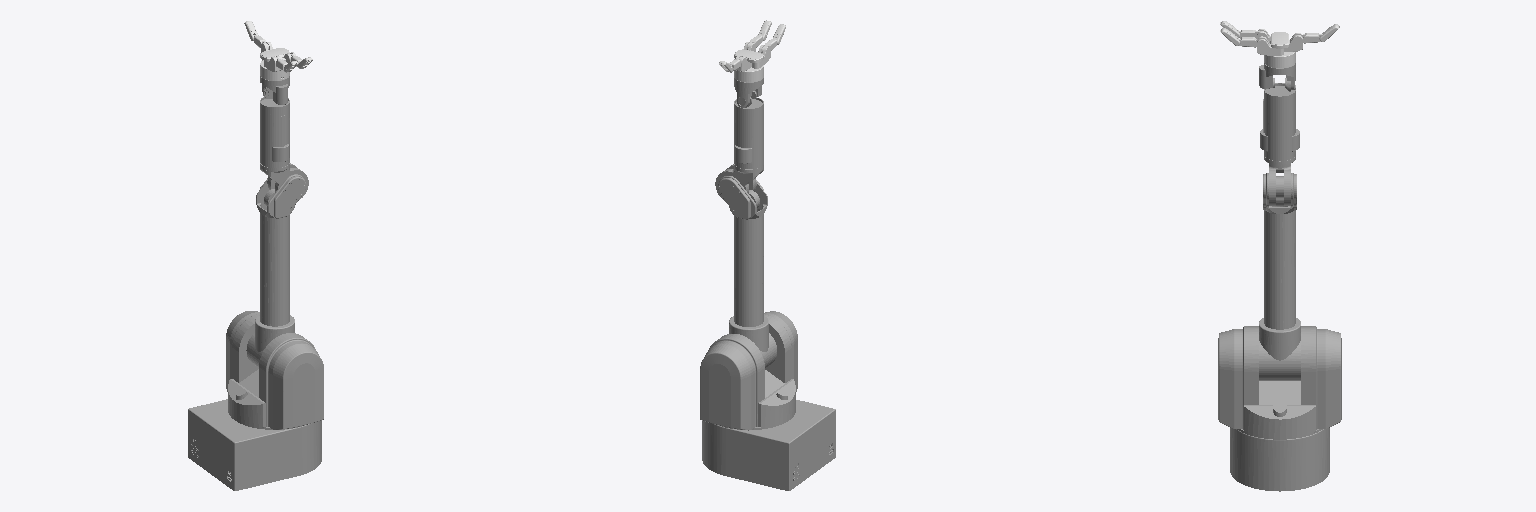
--- Facts derived from the render (not from the file) ---
Views: 3 orthographic renders of the robot side by side, from view 1: azimuth 30°, elevation 25°; view 2: azimuth 150°, elevation 25°; view 3: azimuth 270°, elevation 25°.
Model wam with 24 links and 23 joints (15 revolute, 8 fixed), rooted at world, posed all joints at 0.
Links seen in each view (by area): view 1: wam/shoulder_yaw_link, wam/base_link, wam/upper_arm_link, wam/forearm_link, wam/shoulder_pitch_link, wam/bhand/bhand_palm_link; view 2: wam/shoulder_yaw_link, wam/base_link, wam/upper_arm_link, wam/forearm_link, wam/shoulder_pitch_link, wam/bhand/bhand_palm_link; view 3: wam/shoulder_yaw_link, wam/base_link, wam/upper_arm_link, wam/forearm_link, wam/shoulder_pitch_link, wam/bhand/bhand_palm_link.
Boxes of the visible links, left/top/right/bottom form: wam/shoulder_yaw_link: left=226, top=311, right=323, bottom=429; wam/base_link: left=188, top=399, right=321, bottom=490; wam/upper_arm_link: left=256, top=174, right=305, bottom=326; wam/forearm_link: left=260, top=97, right=308, bottom=199; wam/shoulder_pitch_link: left=246, top=315, right=294, bottom=367; wam/bhand/bhand_palm_link: left=260, top=42, right=289, bottom=80; wam/shoulder_yaw_link: left=700, top=311, right=797, bottom=430; wam/base_link: left=702, top=400, right=835, bottom=490; wam/upper_arm_link: left=718, top=176, right=767, bottom=326; wam/forearm_link: left=715, top=97, right=763, bottom=201; wam/shoulder_pitch_link: left=729, top=316, right=776, bottom=367; wam/bhand/bhand_palm_link: left=734, top=49, right=763, bottom=82; wam/shoulder_yaw_link: left=1218, top=326, right=1341, bottom=439; wam/base_link: left=1230, top=428, right=1329, bottom=491; wam/upper_arm_link: left=1263, top=173, right=1296, bottom=329; wam/forearm_link: left=1260, top=83, right=1299, bottom=205; wam/shoulder_pitch_link: left=1259, top=318, right=1300, bottom=380; wam/bhand/bhand_palm_link: left=1264, top=32, right=1302, bottom=67.
Bounding box of the posed robot: 0.36 × 0.3476 × 1.37 m (x, y, z).
17 mesh visuals loaded from 13 distinct referenced files (12 OBJ); not drawn: 1 (reference not matched to a file when rendering).

robot.urdf — wam:
<?xml version="1.0" ?>
<!-- =================================================================================== -->
<!-- |    This document was autogenerated by xacro from wam7_bhand.urdf.xacro          | -->
<!-- |    EDITING THIS FILE BY HAND IS NOT RECOMMENDED                                 | -->
<!-- =================================================================================== -->
<robot name="wam" xmlns:controller="http://playerstage.sourceforge.net/gazebo/xmlschema/#controller" xmlns:xacro="http://ros.org/wiki/xacro">
  <!-- Includea all the WAM stuff -->
  <!-- Some macros used by the WAM urdf -->
  <!-- Directories -->
  <!-- Constants -->
  <!-- Gazebo macros -->
  <!-- Gazebo joint configuration -->
  <!-- Definition of a single WAM arm -->
  <!-- Directories -->
  <!-- Constants -->
  <!-- Gazebo macros -->
  <!-- Gazebo joint configuration -->
  <!-- Directories -->
  <!-- Constants -->
  <!-- Gazebo macros -->
  <!-- Gazebo joint configuration -->
  <!-- High-leveel hand macro -->
  <!-- Fingers -->
  <!-- Components -->
  <!-- Directories -->
  <!-- Constants -->
  <!-- Gazebo macros -->
  <!-- Gazebo joint configuration -->
  <!-- Upper arm macros -->
  <!-- Forearm macros -->
  <!-- Palm without force-torque sensor -->
  <!-- Hollow forearm macros -->
  <!--<xacro:macro name="wam_hollow_forearm" params="prefix">-->
  <!--<joint name="${prefix}/elbow_joint" type="revolute">-->
  <!--<parent link="${prefix}/upper_arm_link"/>-->
  <!--<child link="${prefix}/forearm_link"/>-->
  <!--<origin xyz="0.045 -0.55 0" rpy="${0.5 * PI} 0 0"/>-->
  <!--<axis xyz="0 1 0"/>-->
  <!--<limit effort="15" lower="-0.9" upper="${PI}" velocity="0.50"/>-->
  <!--[> <safety_controller k_position="100" k_velocity="3" soft_lower_limit="-100.0" soft_upper_limit="100.0" /> <]-->
  <!--<dynamics damping="0.1" friction="100.0"/>-->
  <!--</joint>-->
  <!--<link name="${prefix}/forearm_link" >-->
  <!--<inertial>-->
  <!--<origin xyz="0 0 0" />-->
  <!--<mass value="3.20016804" />-->
  <!--<origin xyz="-0.04001488 -.00022942 .13271662" rpy="0 0 0" />-->
  <!--<inertia  ixx="0.01491672" ixy="0.00001741"   ixz="-0.00150604"-->
  <!--iyy="0.01482988"   iyz="-0.00002109"-->
  <!--izz="0.00294463" />-->
  <!--</inertial>-->
  <!--<visual>-->
  <!--<material name="WAMGrey">-->
  <!--<color rgba="0.7 0.7 0.7 1.0"/>-->
  <!--</material>-->
  <!--<origin xyz="0 0 0" rpy="-${PI} 0 0" />-->
  <!--<geometry>-->
  <!--<mesh filename="${models_path}/meshes/wamForeArmLink4.DAE"/>-->
  <!--</geometry>-->
  <!--</visual>-->
  <!--<collision>-->
  <!--<origin xyz="0 0 0" rpy="-${PI} 0 0" />-->
  <!--<geometry>-->
  <!--<mesh filename="${models_path}/meshes/wamForeArmLink4.obj"/>-->
  <!--</geometry>-->
  <!--</collision>-->
  <!--</link>-->
  <!--</xacro:macro>-->
  <!--<xacro:macro name="wam_hollow_wrist" params="prefix">-->
  <!--<joint name="${prefix}/UpperWristJoint" type="fixed">-->
  <!--<parent link="${prefix}/ForeArmLink"/>-->
  <!--<child link="${prefix}/LowerWristPalmLink"/>-->
  <!--<origin xyz="-0.045 0 .35" rpy="-${0.5 * PI} 0 ${0.5 * PI}"/>-->
  <!--<axis xyz="0 -1 0"/>-->
  <!--<limit effort="5" lower="-4.8" upper="1.3" velocity="0.20"/>-->
  <!--[> <safety_controller k_position="100" k_velocity="3" soft_lower_limit="-100.0" soft_upper_limit="100.0" /> <]-->
  <!--<dynamics damping="0.1" friction="100.0"/>-->
  <!--</joint>-->
  <!--<link name="${prefix}/LowerWristPalmLink" >-->
  <!--<inertial>-->
  <!--<origin xyz="0.00008921 0.00511217 0.00435824" />-->
  <!--<mass value="1.12376019" />-->
  <!--<inertia  ixx="0.00005029" ixy="0.00000020"  ixz="0.00007582"-->
  <!--iyy="0.00007582"  iyz="-0.00000359"-->
  <!--izz="0.00006270" />-->
  <!--</inertial>-->
  <!--<visual>-->
  <!--<material name="WAMGrey">-->
  <!--<color rgba="0.7 0.7 0.7 1.0"/>-->
  <!--</material>-->
  <!--<origin xyz="0 0.02711 0" rpy="${PI} 0 0" />-->
  <!--<geometry>-->
  <!--<mesh filename="${models_path}/meshes/wamUpperWristYawLink.DAE"/>-->
  <!--</geometry>-->
  <!--</visual>-->
  <!--<collision>-->
  <!--<origin xyz="0 0.02711 0" rpy="${PI} 0 0" />-->
  <!--<geometry>-->
  <!--<mesh filename="${models_path}/meshes/wamUpperWristYawLink5.obj"/>-->
  <!--</geometry>-->
  <!--</collision>-->
  <!--</link>-->
  <!--</xacro:macro>-->
  <!-- Palm with ForceTorque macros -->
  <!--<xacro:macro name="LowerWristFT" params="prefix">-->
  <!--<joint name="${prefix}/LowerWristYawJoint" type="revolute">-->
  <!--<parent link="${prefix}/UpperWristPitchLink"/>-->
  <!--<child link="${prefix}/LowerWristYawLink"/>-->
  <!--<origin xyz="0 0 0.06713340" rpy="0 0 0"/>-->
  <!--<axis xyz="0 0 1"/>-->
  <!--<limit effort="5" lower="-2.95" upper="2.95" velocity="0.20"/>[> 2.95 is a limit taken in from 3 due to saftey and differences between arms. <]-->
  <!--[> <safety_controller k_position="100" k_velocity="3" soft_lower_limit="-100.0" soft_upper_limit="100.0" /> <]-->
  <!--<dynamics damping="0.1" friction="100.0"/>-->
  <!--</joint>-->
  <!--<link name="${prefix}/LowerWristYawLink" >-->
  <!--<inertial>-->
  <!--<origin xyz="-0.00000134 -0.00228167 -0.00000141" rpy="0 0 0" />-->
  <!--<mass value="0.17286134" />-->
  <!--<inertia  ixx="0.00010859" ixy="0.00000000"  ixz="-0.00000000"-->
  <!--iyy="0.00020683"  iyz="-0.0000000"-->
  <!--izz="0.00010851" />-->
  <!--</inertial>-->
  <!--<visual>-->
  <!--<material name="WAMGrey">-->
  <!--<color rgba="0.7 0.7 0.7 1.0"/>-->
  <!--</material>-->
  <!--<origin xyz="0 0 0" rpy="0 0 0" />-->
  <!--<geometry>-->
  <!--<mesh filename="${models_path}/meshes/forceTorqueSensor.DAE"/>-->
  <!--</geometry>-->
  <!--</visual>-->
  <!--<collision>-->
  <!--<origin xyz="0 0 0" rpy="0 0 0" />-->
  <!--<geometry>-->
  <!--<mesh filename="${models_path}/meshes/forceTorqueSensor.obj"/>-->
  <!--</geometry>-->
  <!--</collision>-->
  <!--</link>-->
  <!--</xacro:macro>-->
  <!-- upper arm only -->
  <!-- forearm with actuation "wrist" -->
  <!-- Definition of all the different parts of a WAM arm -->
  <!-- Directories -->
  <!-- Constants -->
  <!-- Gazebo macros -->
  <!-- Gazebo joint configuration -->
  <!-- High-leveel hand macro -->
  <!-- Fingers -->
  <!-- Components -->
  <!-- Directories -->
  <!-- Constants -->
  <!-- Gazebo macros -->
  <!-- Gazebo joint configuration -->
  <!-- Upper arm macros -->
  <!-- Forearm macros -->
  <!-- Palm without force-torque sensor -->
  <!-- Hollow forearm macros -->
  <!--<xacro:macro name="wam_hollow_forearm" params="prefix">-->
  <!--<joint name="${prefix}/elbow_joint" type="revolute">-->
  <!--<parent link="${prefix}/upper_arm_link"/>-->
  <!--<child link="${prefix}/forearm_link"/>-->
  <!--<origin xyz="0.045 -0.55 0" rpy="${0.5 * PI} 0 0"/>-->
  <!--<axis xyz="0 1 0"/>-->
  <!--<limit effort="15" lower="-0.9" upper="${PI}" velocity="0.50"/>-->
  <!--[> <safety_controller k_position="100" k_velocity="3" soft_lower_limit="-100.0" soft_upper_limit="100.0" /> <]-->
  <!--<dynamics damping="0.1" friction="100.0"/>-->
  <!--</joint>-->
  <!--<link name="${prefix}/forearm_link" >-->
  <!--<inertial>-->
  <!--<origin xyz="0 0 0" />-->
  <!--<mass value="3.20016804" />-->
  <!--<origin xyz="-0.04001488 -.00022942 .13271662" rpy="0 0 0" />-->
  <!--<inertia  ixx="0.01491672" ixy="0.00001741"   ixz="-0.00150604"-->
  <!--iyy="0.01482988"   iyz="-0.00002109"-->
  <!--izz="0.00294463" />-->
  <!--</inertial>-->
  <!--<visual>-->
  <!--<material name="WAMGrey">-->
  <!--<color rgba="0.7 0.7 0.7 1.0"/>-->
  <!--</material>-->
  <!--<origin xyz="0 0 0" rpy="-${PI} 0 0" />-->
  <!--<geometry>-->
  <!--<mesh filename="${models_path}/meshes/wamForeArmLink4.DAE"/>-->
  <!--</geometry>-->
  <!--</visual>-->
  <!--<collision>-->
  <!--<origin xyz="0 0 0" rpy="-${PI} 0 0" />-->
  <!--<geometry>-->
  <!--<mesh filename="${models_path}/meshes/wamForeArmLink4.obj"/>-->
  <!--</geometry>-->
  <!--</collision>-->
  <!--</link>-->
  <!--</xacro:macro>-->
  <!--<xacro:macro name="wam_hollow_wrist" params="prefix">-->
  <!--<joint name="${prefix}/UpperWristJoint" type="fixed">-->
  <!--<parent link="${prefix}/ForeArmLink"/>-->
  <!--<child link="${prefix}/LowerWristPalmLink"/>-->
  <!--<origin xyz="-0.045 0 .35" rpy="-${0.5 * PI} 0 ${0.5 * PI}"/>-->
  <!--<axis xyz="0 -1 0"/>-->
  <!--<limit effort="5" lower="-4.8" upper="1.3" velocity="0.20"/>-->
  <!--[> <safety_controller k_position="100" k_velocity="3" soft_lower_limit="-100.0" soft_upper_limit="100.0" /> <]-->
  <!--<dynamics damping="0.1" friction="100.0"/>-->
  <!--</joint>-->
  <!--<link name="${prefix}/LowerWristPalmLink" >-->
  <!--<inertial>-->
  <!--<origin xyz="0.00008921 0.00511217 0.00435824" />-->
  <!--<mass value="1.12376019" />-->
  <!--<inertia  ixx="0.00005029" ixy="0.00000020"  ixz="0.00007582"-->
  <!--iyy="0.00007582"  iyz="-0.00000359"-->
  <!--izz="0.00006270" />-->
  <!--</inertial>-->
  <!--<visual>-->
  <!--<material name="WAMGrey">-->
  <!--<color rgba="0.7 0.7 0.7 1.0"/>-->
  <!--</material>-->
  <!--<origin xyz="0 0.02711 0" rpy="${PI} 0 0" />-->
  <!--<geometry>-->
  <!--<mesh filename="${models_path}/meshes/wamUpperWristYawLink.DAE"/>-->
  <!--</geometry>-->
  <!--</visual>-->
  <!--<collision>-->
  <!--<origin xyz="0 0.02711 0" rpy="${PI} 0 0" />-->
  <!--<geometry>-->
  <!--<mesh filename="${models_path}/meshes/wamUpperWristYawLink5.obj"/>-->
  <!--</geometry>-->
  <!--</collision>-->
  <!--</link>-->
  <!--</xacro:macro>-->
  <!-- Palm with ForceTorque macros -->
  <!--<xacro:macro name="LowerWristFT" params="prefix">-->
  <!--<joint name="${prefix}/LowerWristYawJoint" type="revolute">-->
  <!--<parent link="${prefix}/UpperWristPitchLink"/>-->
  <!--<child link="${prefix}/LowerWristYawLink"/>-->
  <!--<origin xyz="0 0 0.06713340" rpy="0 0 0"/>-->
  <!--<axis xyz="0 0 1"/>-->
  <!--<limit effort="5" lower="-2.95" upper="2.95" velocity="0.20"/>[> 2.95 is a limit taken in from 3 due to saftey and differences between arms. <]-->
  <!--[> <safety_controller k_position="100" k_velocity="3" soft_lower_limit="-100.0" soft_upper_limit="100.0" /> <]-->
  <!--<dynamics damping="0.1" friction="100.0"/>-->
  <!--</joint>-->
  <!--<link name="${prefix}/LowerWristYawLink" >-->
  <!--<inertial>-->
  <!--<origin xyz="-0.00000134 -0.00228167 -0.00000141" rpy="0 0 0" />-->
  <!--<mass value="0.17286134" />-->
  <!--<inertia  ixx="0.00010859" ixy="0.00000000"  ixz="-0.00000000"-->
  <!--iyy="0.00020683"  iyz="-0.0000000"-->
  <!--izz="0.00010851" />-->
  <!--</inertial>-->
  <!--<visual>-->
  <!--<material name="WAMGrey">-->
  <!--<color rgba="0.7 0.7 0.7 1.0"/>-->
  <!--</material>-->
  <!--<origin xyz="0 0 0" rpy="0 0 0" />-->
  <!--<geometry>-->
  <!--<mesh filename="${models_path}/meshes/forceTorqueSensor.DAE"/>-->
  <!--</geometry>-->
  <!--</visual>-->
  <!--<collision>-->
  <!--<origin xyz="0 0 0" rpy="0 0 0" />-->
  <!--<geometry>-->
  <!--<mesh filename="${models_path}/meshes/forceTorqueSensor.obj"/>-->
  <!--</geometry>-->
  <!--</collision>-->
  <!--</link>-->
  <!--</xacro:macro>-->
  <!-- Definitions for the barrett hand -->
  <!-- Directories -->
  <!-- Constants -->
  <!-- Gazebo macros -->
  <!-- Gazebo joint configuration -->
  <!-- High-leveel hand macro -->
  <!-- Fingers -->
  <!-- Components -->
  <!-- Definitions for the barrett ball -->
  <!-- Directories -->
  <!-- Constants -->
  <!-- Gazebo macros -->
  <!-- Gazebo joint configuration -->
  <!-- High-leveel hand macro -->
  <!-- Materials -->
  <material name="WAMGrey">
    <color rgba="0.7 0.7 0.7 1.0"/>
  </material>
  <!-- Root link is in the world frame-->
  <link name="world"/>
  <!-- 7-DOF Wam -->
  <joint name="wam/wam_fixed_joint" type="fixed">
    <parent link="world"/>
    <child link="wam/base_link"/>
    <origin rpy="0 0 0" xyz="0.0 0.0 1.0"/>
  </joint>
  <link name="wam/base_link">
    <inertial>
      <origin xyz="0 0 0"/>
      <mass value="500"/>
      <inertia ixx="0.1" ixy="0" ixz="0" iyy="0.1" iyz="0" izz="0.1"/>
    </inertial>
    <visual>
      <material name="WAMGrey">
        <color rgba="0.7 0.7 0.7 0.0"/>
      </material>
      <geometry>
        <mesh filename="models/sw_meshes/base_link_fine.obj"/>
      </geometry>
    </visual>
    <collision group="base">
      <geometry>
        <mesh filename="models/sw_meshes/base_link_convex.dae"/>
      </geometry>
    </collision>
  </link>
  <joint name="wam/base_yaw_joint" type="revolute">
    <parent link="wam/base_link"/>
    <child link="wam/shoulder_yaw_link"/>
    <origin rpy="0 0 0" xyz="0 0 0.346"/>
    <axis xyz="0 0 1"/>
    <limit effort="60" lower="-2.6" upper="2.6" velocity="2.0"/>
    <dynamics damping="1.98" friction="0"/>
  </joint>
  <gazebo reference="wam/base_yaw_joint">
    <provideFeedback>true</provideFeedback>
    <implicitSpringDamper>true</implicitSpringDamper>
    <!--<kp>0.0</kp>[> CFM <]-->
    <!--<kd>0.0</kd>[> ERP <]-->
    <!--<cfmDamping>true</cfmDamping>-->
    <!--<dynamics damping="5.5" friction="1"/>-->
  </gazebo>
  <link name="wam/shoulder_yaw_link">
    <inertial>
      <origin xyz="-.00443422 -.00066489 -0.1289039 "/>
      <mass value="5.0"/>
      <inertia ixx=".13488033" ixy="-0.00012485" ixz="0.00213041" iyy=".09046330" iyz="-.00068555" izz=".11328369"/>
    </inertial>
    <visual>
      <material name="WAMGrey">
        <color rgba="0.7 0.7 0.7 1.0"/>
      </material>
      <geometry>
        <mesh filename="models/sw_meshes/shoulder_link_fine.obj"/>
      </geometry>
    </visual>
    <collision>
      <geometry>
        <mesh filename="models/sw_meshes/shoulder_link_convex_decomposition.dae"/>
      </geometry>
    </collision>
  </link>
  <joint name="wam/shoulder_pitch_joint" type="revolute">
    <parent link="wam/shoulder_yaw_link"/>
    <child link="wam/shoulder_pitch_link"/>
    <origin rpy="-1.57079632679 0 0" xyz="0 0 0"/>
    <axis xyz="0 0 1"/>
    <limit effort="60" lower="-1.985" upper="1.985" velocity="2.0"/>
    <dynamics damping="0.55" friction="0"/>
  </joint>
  <gazebo reference="wam/shoulder_pitch_joint">
    <provideFeedback>true</provideFeedback>
    <implicitSpringDamper>true</implicitSpringDamper>
    <!--<kp>0.0</kp>[> CFM <]-->
    <!--<kd>0.0</kd>[> ERP <]-->
    <!--<cfmDamping>true</cfmDamping>-->
    <!--<dynamics damping="5.5" friction="1"/>-->
  </gazebo>
  <link name="wam/shoulder_pitch_link">
    <visual>
      <material name="WAMGrey">
        <color rgba="0.7 0.7 0.7 1.0"/>
      </material>
      <geometry>
        <mesh filename="models/sw_meshes/shoulder_pitch_link_fine.obj"/>
      </geometry>
    </visual>
    <inertial>
      <origin xyz="-.00236981 -.01542114 .03105614 "/>
      <mass value="3.87493756"/>
      <inertia ixx="0.02140958" ixy="-0.00002461" ixz="0.00027172" iyy="0.015589060" iyz="0.0018192" izz="0.01377875"/>
    </inertial>
    <collision>
      <geometry>
        <mesh filename="models/sw_meshes/shoulder_pitch_link_convex.dae"/>
      </geometry>
    </collision>
  </link>
  <joint name="wam/shoulder_yaw_joint" type="revolute">
    <parent link="wam/shoulder_pitch_link"/>
    <child link="wam/upper_arm_link"/>
    <origin rpy="1.57079632679 0 0" xyz="0 0 0"/>
    <axis xyz="0 0 1"/>
    <limit effort="45" lower="-2.8" upper="2.8" velocity="2.0"/>
    <dynamics damping="1.65" friction="0"/>
  </joint>
  <gazebo reference="wam/shoulder_yaw_joint">
    <provideFeedback>true</provideFeedback>
    <implicitSpringDamper>true</implicitSpringDamper>
    <!--<kp>0.0</kp>[> CFM <]-->
    <!--<kd>0.0</kd>[> ERP <]-->
    <!--<cfmDamping>true</cfmDamping>-->
    <!--<dynamics damping="5.5" friction="1"/>-->
  </gazebo>
  <link name="wam/upper_arm_link">
    <inertial>
      <origin xyz="0.00683258580000000 0.000033090000000 0.392492300000000"/>
      <mass value="2.20228141"/>
      <inertia ixx=".05911077" ixy="-0.00000738" ixz="-0.00249612" iyy="0.05927043" iyz="0.00001767" izz="0.0032455"/>
    </inertial>
    <visual>
      <material name="WAMGrey">
        <color rgba="0.7 0.7 0.7 1.0"/>
      </material>
      <geometry>
        <mesh filename="models/sw_meshes/upper_arm_link_fine.obj"/>
      </geometry>
    </visual>
    <collision>
      <geometry>
        <mesh filename="models/sw_meshes/upper_arm_link_convex_decomposition.dae"/>
      </geometry>
    </collision>
  </link>
  <joint name="wam/elbow_pitch_joint" type="revolute">
    <parent link="wam/upper_arm_link"/>
    <child link="wam/forearm_link"/>
    <origin rpy="-1.57079632679 0 0" xyz="0.045 0 0.55"/>
    <axis xyz="0 0 1"/>
    <limit effort="30" lower="-0.9" upper="3.14159265359" velocity="2.00"/>
    <dynamics damping="0.88" friction="0"/>
  </joint>
  <gazebo reference="wam/elbow_pitch_joint">
    <provideFeedback>true</provideFeedback>
    <implicitSpringDamper>true</implicitSpringDamper>
    <!--<kp>0.0</kp>[> CFM <]-->
    <!--<kd>0.0</kd>[> ERP <]-->
    <!--<cfmDamping>true</cfmDamping>-->
    <!--<dynamics damping="5.5" friction="1"/>-->
  </gazebo>
  <link name="wam/forearm_link">
    <inertial>
      <mass value="0.50016804"/>
      <origin rpy="0 0 0" xyz="-0.04001488 -.14271662 -.00022942 "/>
      <inertia ixx="0.01491672" ixy="0.001506040000000" ixz="0.000017410000000" iyy="0.002944630000000" iyz="0.000021090000000" izz="0.014829880000000"/>
    </inertial>
    <visual>
      <material name="WAMGrey">
        <color rgba="0.7 0.7 0.7 1.0"/>
      </material>
      <geometry>
        <mesh filename="models/sw_meshes/elbow_link_fine.obj"/>
      </geometry>
    </visual>
    <collision>
      <geometry>
        <mesh filename="models/sw_meshes/elbow_link_convex.dae"/>
      </geometry>
    </collision>
    <visual>
      <material name="WAMGrey">
        <color rgba="0.7 0.7 0.7 1.0"/>
      </material>
      <origin rpy="1.57079632679 0 0" xyz="-0.045 -0.0730 0"/>
      <geometry>
        <mesh filename="models/sw_meshes/forearm_link_fine.obj"/>
      </geometry>
    </visual>
    <collision>
      <origin rpy="1.57079632679 0 0" xyz="-0.045 -0.0730 0"/>
      <geometry>
        <mesh filename="models/sw_meshes/forearm_link_convex_decomposition.dae"/>
      </geometry>
    </collision>
  </link>
  <joint name="wam/wrist_yaw_joint" type="revolute">
    <parent link="wam/forearm_link"/>
    <child link="wam/wrist_yaw_link"/>
    <origin rpy="1.57079632679 0 0" xyz="-0.045 -0.3 0"/>
    <axis xyz="0 0 1"/>
    <limit effort="10" lower="-4.55" upper="1.25" velocity="2.0"/>
    <dynamics damping="0.55" friction="0"/>
  </joint>
  <gazebo reference="wam/wrist_yaw_joint">
    <provideFeedback>true</provideFeedback>
    <implicitSpringDamper>true</implicitSpringDamper>
    <!--<kp>0.0</kp>[> CFM <]-->
    <!--<kd>0.0</kd>[> ERP <]-->
    <!--<cfmDamping>true</cfmDamping>-->
    <!--<dynamics damping="5.5" friction="1"/>-->
  </gazebo>
  <link name="wam/wrist_yaw_link">
    <inertial>
      <origin xyz="0.00008921 0.00435824 -0.00511217 "/>
      <mass value="1.05376019"/>
      <inertia ixx="0.00005029" ixy="0.00000020" ixz="0.00007582" iyy="0.00007582" iyz="-0.00000359" izz="0.00006270"/>
    </inertial>
    <visual>
      <material name="WAMGrey">
        <color rgba="0.7 0.7 0.7 1.0"/>
      </material>
      <origin rpy="0 0 0" xyz="0 0 0"/>
      <geometry>
        <mesh filename="models/sw_meshes/wrist_yaw_link_fine.obj"/>
      </geometry>
    </visual>
    <collision>
      <origin rpy="0 0 0" xyz="0 0 0"/>
      <geometry>
        <mesh filename="models/sw_meshes/wrist_yaw_link_convex_decomposition.dae"/>
      </geometry>
    </collision>
  </link>
  <joint name="wam/wrist_pitch_joint" type="revolute">
    <parent link="wam/wrist_yaw_link"/>
    <child link="wam/wrist_pitch_link"/>
    <origin rpy="-1.57079632679 0 0" xyz="0 0 0"/>
    <axis xyz="0 0 1"/>
    <limit effort="10" lower="-1.5707" upper="1.5707" velocity="2.00"/>
    <dynamics damping="0.5" friction="0"/>
  </joint>
  <gazebo reference="wam/wrist_pitch_joint">
    <provideFeedback>true</provideFeedback>
    <implicitSpringDamper>true</implicitSpringDamper>
    <!--<kp>0.0</kp>[> CFM <]-->
    <!--<kd>0.0</kd>[> ERP <]-->
    <!--<cfmDamping>true</cfmDamping>-->
    <!--<dynamics damping="5.5" friction="1"/>-->
  </gazebo>
  <link name="wam/wrist_pitch_link">
    <inertial>
      <origin rpy="0 0 0" xyz="-0.00012262 -0.02468336 -0.01703194 "/>
      <mass value="0.51797364"/>
      <inertia ixx="0.00055516" ixy="0.00000061" ixz="-0.00000074" iyy="0.00024367" iyz="-0.00004590" izz="0.00045358"/>
    </inertial>
    <visual>
      <material name="WAMGrey">
        <color rgba="0.7 0.7 0.7 1.0"/>
      </material>
      <geometry>
        <mesh filename="models/sw_meshes/wrist_pitch_link_fine.obj"/>
      </geometry>
    </visual>
    <collision>
      <geometry>
        <mesh filename="models/sw_meshes/wrist_pitch_link_convex_decomposition.dae"/>
      </geometry>
    </collision>
  </link>
  <joint name="wam/palm_yaw_joint" type="revolute">
    <parent link="wam/wrist_pitch_link"/>
    <child link="wam/wrist_palm_link"/>
    <origin rpy="1.57079632679 0 0" xyz="0 0 0"/>
    <axis xyz="0 0 1"/>
    <limit effort="10" lower="-3.0" upper="3.0" velocity="2.00"/>
    <!-- 2.95 is a limit taken in from 3 due to saftey and differences between arms. -->
    <dynamics damping="0.11" friction="0"/>
  </joint>
  <gazebo reference="wam/palm_yaw_joint">
    <provideFeedback>true</provideFeedback>
    <implicitSpringDamper>true</implicitSpringDamper>
    <!--<kp>0.0</kp>[> CFM <]-->
    <!--<kd>0.0</kd>[> ERP <]-->
    <!--<cfmDamping>true</cfmDamping>-->
    <!--<dynamics damping="5.5" friction="1"/>-->
  </gazebo>
  <link name="wam/wrist_palm_link">
    <inertial>
      <origin rpy="0 0 0" xyz="0.0 0.0 0.055"/>
      <mass value="0.08286134"/>
      <inertia ixx="0.00010859" ixy="0.00000000" ixz="-0.00000000" iyy="0.00020683" iyz="-0.0000000" izz="0.00010851"/>
    </inertial>
    <visual>
      <material name="WAMGrey">
        <color rgba="0.7 0.7 0.7 1.0"/>
      </material>
      <origin rpy="0 0 0" xyz="0 0 0"/>
      <geometry>
        <mesh filename="models/sw_meshes/wrist_palm_link_fine.obj"/>
      </geometry>
    </visual>
    <collision>
      <origin rpy="0 0 0" xyz="0 0 0"/>
      <geometry>
        <mesh filename="models/sw_meshes/wrist_palm_link_convex.dae"/>
      </geometry>
    </collision>
  </link>
  <joint name="wam/wrist_palm_stump_joint" type="fixed">
    <parent link="wam/wrist_palm_link"/>
    <child link="wam/wrist_palm_stump_link"/>
    <origin rpy="0 0 0" xyz="0 0 0.06"/>
  </joint>
  <link name="wam/wrist_palm_stump_link">
    <inertial>
      <mass value="0.000001"/>
      <inertia ixx="0.0000001" ixy="0.0" ixz="0.0" iyy="0.0000001" iyz="0.0" izz="0.0000001"/>
    </inertial>
  </link>
  <!-- BHand -->
  <joint name="wam/bhand/bhand_base_joint" type="fixed">
    <parent link="wam/wrist_palm_link"/>
    <child link="wam/bhand/bhand_palm_link"/>
    <origin rpy="0 0 0" xyz="0 0 0.06"/>
  </joint>
  <gazebo reference="wam/bhand/bhand_palm_link">
    <mu1>0.8</mu1>
    <mu2>0.8</mu2>
  </gazebo>
  <link name="wam/bhand/bhand_palm_link">
    <inertial>
      <origin xyz="-5.1098e-005 0.0050433 0.036671"/>
      <mass value="0.50573"/>
      <inertia ixx="3.8374e-005" ixy="-5.604e-008" ixz="-4.2034e-005" iyy="0.00022405" iyz="1.3283e-007" izz="0.00020045"/>
    </inertial>
    <visual>
      <material name="WAMGrey">
        <color rgba="0.9 0.9 0.9 0.0"/>
      </material>
      <geometry>
        <mesh filename="models/sw_meshes/bhand/bhand_palm_fine.obj"/>
      </geometry>
    </visual>
    <collision>
      <geometry>
        <mesh filename="models/sw_meshes/bhand/bhand_palm_link_convex_decomposition.dae"/>
      </geometry>
    </collision>
  </link>
  <joint name="wam/bhand/bhand_palm_surface_joint" type="fixed">
    <parent link="wam/bhand/bhand_palm_link"/>
    <child link="wam/bhand/bhand_palm_surface_link"/>
    <origin rpy="0 0 0" xyz="0 0 0.08"/>
    <limit effort="5" lower="0" upper="3.14159265359" velocity="5.0"/>
    <dynamics damping="0.11" friction="0"/>
  </joint>
  <link name="wam/bhand/bhand_palm_surface_link">
    <inertial>
      <mass value="0.000001"/>
      <inertia ixx="0.000001" ixy="0.0" ixz="0.0" iyy="0.000001" iyz="0.0" izz="0.000001"/>
    </inertial>
  </link>
  <joint name="wam/bhand/bhand_grasp_joint" type="fixed">
    <parent link="wam/bhand/bhand_palm_link"/>
    <child link="wam/bhand/bhand_grasp_link"/>
    <origin rpy="0 0 0" xyz="0 0 0.12"/>
    <limit effort="5" lower="0" upper="3.14159265359" velocity="5.0"/>
    <dynamics damping="0.11" friction="0"/>
  </joint>
  <link name="wam/bhand/bhand_grasp_link">
    <inertial>
      <mass value="0.000001"/>
      <inertia ixx="0.000001" ixy="0.0" ixz="0.0" iyy="0.000001" iyz="0.0" izz="0.000001"/>
    </inertial>
  </link>
  <joint name="wam/bhand/finger_1/prox_joint" type="revolute">
    <parent link="wam/bhand/bhand_palm_link"/>
    <child link="wam/bhand/finger_1/prox_link"/>
    <origin rpy="0 0 -1.57079632679" xyz="-0.025 0.0 0.0415"/>
    <axis xyz="0 0 -1"/>
    <limit effort="5" lower="0" upper="3.14159265359" velocity="5.0"/>
    <dynamics damping="0.5" friction="0"/>
  </joint>
  <gazebo reference="wam/bhand/finger_1/prox_joint">
    <provideFeedback>true</provideFeedback>
    <implicitSpringDamper>true</implicitSpringDamper>
    <!--<kp>0.0</kp>[> CFM <]-->
    <!--<kd>0.0</kd>[> ERP <]-->
    <!--<cfmDamping>true</cfmDamping>-->
    <!--<dynamics damping="5.5" friction="1"/>-->
  </gazebo>
  <gazebo reference="wam/bhand/finger_1/prox_link">
    <mu1>0.8</mu1>
    <mu2>0.8</mu2>
  </gazebo>
  <link name="wam/bhand/finger_1/prox_link">
    <inertial>
      <origin xyz="0.023133 0.00078642 0.00052792"/>
      <mass value="0.14109"/>
      <inertia ixx="1e-4" ixy="0" ixz="0" iyy="1e-4" iyz="0" izz="1e-4"/>
    </inertial>
    <visual>
      <material name="WAMGrey">
        <color rgba="0.9 0.9 0.9 0.0"/>
      </material>
      <geometry>
        <mesh filename="models/sw_meshes/bhand/bhand_finger_prox_link_fine.obj"/>
      </geometry>
    </visual>
    <collision>
      <geometry>
        <mesh filename="models/sw_meshes/bhand/bhand_finger_prox_link_convex_decomposition.dae"/>
      </geometry>
    </collision>
  </link>
  <joint name="wam/bhand/finger_1/med_joint" type="revolute">
    <parent link="wam/bhand/finger_1/prox_link"/>
    <child link="wam/bhand/finger_1/med_link"/>
    <origin rpy="1.57079632679 0 0" xyz="0.05 0.0 0.03390"/>
    <axis xyz="0 0 1"/>
    <limit effort="5" lower="0" upper="2.44346095279" velocity="5.00"/>
    <dynamics damping="0.5" friction="0"/>
  </joint>
  <gazebo reference="wam/bhand/finger_1/med_joint">
    <provideFeedback>true</provideFeedback>
    <implicitSpringDamper>true</implicitSpringDamper>
    <!--<kp>0.0</kp>[> CFM <]-->
    <!--<kd>0.0</kd>[> ERP <]-->
    <!--<cfmDamping>true</cfmDamping>-->
    <!--<dynamics damping="5.5" friction="1"/>-->
  </gazebo>
  <gazebo reference="wam/bhand/finger_1/med_link">
    <mu1>0.8</mu1>
    <mu2>0.8</mu2>
  </gazebo>
  <link name="wam/bhand/finger_1/med_link">
    <inertial>
      <origin xyz="0.023133 0.00078642 0.00052792"/>
      <mass value="0.1"/>
      <inertia ixx="1e-4" ixy="0" ixz="0" iyy="1e-4" iyz="0" izz="1e-4"/>
    </inertial>
    <visual>
      <material name="WAMGrey">
        <color rgba="0.9 0.9 0.9 0.0"/>
      </material>
      <geometry>
        <mesh filename="models/sw_meshes/bhand/bhand_finger_med_link_fine.obj"/>
      </geometry>
    </visual>
    <collision>
      <geometry>
        <mesh filename="models/sw_meshes/bhand/bhand_finger_med_link_convex.dae"/>
      </geometry>
    </collision>
  </link>
  <joint name="wam/bhand/finger_1/dist_joint" type="revolute">
    <parent link="wam/bhand/finger_1/med_link"/>
    <child link="wam/bhand/finger_1/dist_link"/>
    <origin rpy="0 0 0.785398163397" xyz="0.06994 0.003 0.0"/>
    <axis xyz="0 0 1"/>
    <limit effort="5" lower="0" upper="0.837758040957" velocity="5.00"/>
    <dynamics damping="0.5" friction="0"/>
  </joint>
  <gazebo reference="wam/bhand/finger_1/dist_joint">
    <provideFeedback>true</provideFeedback>
    <implicitSpringDamper>true</implicitSpringDamper>
    <!--<kp>0.0</kp>[> CFM <]-->
    <!--<kd>0.0</kd>[> ERP <]-->
    <!--<cfmDamping>true</cfmDamping>-->
    <!--<dynamics damping="5.5" friction="1"/>-->
  </gazebo>
  <gazebo reference="wam/bhand/finger_1/dist_link">
    <mu1>0.8</mu1>
    <mu2>0.8</mu2>
    <selfCollide>true</selfCollide>
  </gazebo>
  <link name="wam/bhand/finger_1/dist_link">
    <inertial>
      <origin rpy="0 0 0" xyz="0.022825 0.0010491 0.0004203"/>
      <mass value="0.1"/>
      <inertia ixx="1e-4" ixy="0" ixz="0" iyy="1e-4" iyz="0" izz="1e-4"/>
    </inertial>
    <visual>
      <origin rpy="0 0 -0.785398163397"/>
      <material name="WAMGrey">
        <color rgba="0.9 0.9 0.9 0.0"/>
      </material>
      <geometry>
        <mesh filename="models/sw_meshes/bhand/bhand_finger_dist_link_fine.obj"/>
      </geometry>
    </visual>
    <collision>
      <origin rpy="0 0 -0.785398163397"/>
      <geometry>
        <mesh filename="models/sw_meshes/bhand/bhand_finger_dist_link_convex.dae"/>
      </geometry>
    </collision>
  </link>
  <joint name="wam/bhand/finger_1/tip_joint" type="fixed">
    <parent link="wam/bhand/finger_1/dist_link"/>
    <child link="wam/bhand/finger_1/tip_link"/>
    <origin rpy="0 0 0" xyz="0.05 0.0 0.0"/>
    <dynamics damping="0.2" friction="0"/>
  </joint>
  <link name="wam/bhand/finger_1/tip_link">
    <inertial>
      <mass value="1E-1"/>
      <inertia ixx="1E-2" ixy="0" ixz="0" iyy="1E-2" iyz="0" izz="1E-2"/>
    </inertial>
  </link>
  <joint name="wam/bhand/finger_2/prox_joint" type="revolute">
    <parent link="wam/bhand/bhand_palm_link"/>
    <child link="wam/bhand/finger_2/prox_link"/>
    <origin rpy="0 0 -1.57079632679" xyz="0.025 0.0 0.0415"/>
    <axis xyz="0 0 1"/>
    <limit effort="5" lower="0" upper="3.14159265359" velocity="5.0"/>
    <dynamics damping="0.5" friction="0"/>
  </joint>
  <gazebo reference="wam/bhand/finger_2/prox_joint">
    <provideFeedback>true</provideFeedback>
    <implicitSpringDamper>true</implicitSpringDamper>
    <!--<kp>0.0</kp>[> CFM <]-->
    <!--<kd>0.0</kd>[> ERP <]-->
    <!--<cfmDamping>true</cfmDamping>-->
    <!--<dynamics damping="5.5" friction="1"/>-->
  </gazebo>
  <gazebo reference="wam/bhand/finger_2/prox_link">
    <mu1>0.8</mu1>
    <mu2>0.8</mu2>
  </gazebo>
  <link name="wam/bhand/finger_2/prox_link">
    <inertial>
      <origin xyz="0.023133 0.00078642 0.00052792"/>
      <mass value="0.14109"/>
      <inertia ixx="1e-4" ixy="0" ixz="0" iyy="1e-4" iyz="0" izz="1e-4"/>
    </inertial>
    <visual>
      <material name="WAMGrey">
        <color rgba="0.9 0.9 0.9 0.0"/>
      </material>
      <geometry>
        <mesh filename="models/sw_meshes/bhand/bhand_finger_prox_link_fine.obj"/>
      </geometry>
    </visual>
    <collision>
      <geometry>
        <mesh filename="models/sw_meshes/bhand/bhand_finger_prox_link_convex_decomposition.dae"/>
      </geometry>
    </collision>
  </link>
  <joint name="wam/bhand/finger_2/med_joint" type="revolute">
    <parent link="wam/bhand/finger_2/prox_link"/>
    <child link="wam/bhand/finger_2/med_link"/>
    <origin rpy="1.57079632679 0 0" xyz="0.05 0.0 0.03390"/>
    <axis xyz="0 0 1"/>
    <limit effort="5" lower="0" upper="2.44346095279" velocity="5.00"/>
    <dynamics damping="0.5" friction="0"/>
  </joint>
  <gazebo reference="wam/bhand/finger_2/med_joint">
    <provideFeedback>true</provideFeedback>
    <implicitSpringDamper>true</implicitSpringDamper>
    <!--<kp>0.0</kp>[> CFM <]-->
    <!--<kd>0.0</kd>[> ERP <]-->
    <!--<cfmDamping>true</cfmDamping>-->
    <!--<dynamics damping="5.5" friction="1"/>-->
  </gazebo>
  <gazebo reference="wam/bhand/finger_2/med_link">
    <mu1>0.8</mu1>
    <mu2>0.8</mu2>
  </gazebo>
  <link name="wam/bhand/finger_2/med_link">
    <inertial>
      <origin xyz="0.023133 0.00078642 0.00052792"/>
      <mass value="0.1"/>
      <inertia ixx="1e-4" ixy="0" ixz="0" iyy="1e-4" iyz="0" izz="1e-4"/>
    </inertial>
    <visual>
      <material name="WAMGrey">
        <color rgba="0.9 0.9 0.9 0.0"/>
      </material>
      <geometry>
        <mesh filename="models/sw_meshes/bhand/bhand_finger_med_link_fine.obj"/>
      </geometry>
    </visual>
    <collision>
      <geometry>
        <mesh filename="models/sw_meshes/bhand/bhand_finger_med_link_convex.dae"/>
      </geometry>
    </collision>
  </link>
  <joint name="wam/bhand/finger_2/dist_joint" type="revolute">
    <parent link="wam/bhand/finger_2/med_link"/>
    <child link="wam/bhand/finger_2/dist_link"/>
    <origin rpy="0 0 0.785398163397" xyz="0.06994 0.003 0.0"/>
    <axis xyz="0 0 1"/>
    <limit effort="5" lower="0" upper="0.837758040957" velocity="5.00"/>
    <dynamics damping="0.5" friction="0"/>
  </joint>
  <gazebo reference="wam/bhand/finger_2/dist_joint">
    <provideFeedback>true</provideFeedback>
    <implicitSpringDamper>true</implicitSpringDamper>
    <!--<kp>0.0</kp>[> CFM <]-->
    <!--<kd>0.0</kd>[> ERP <]-->
    <!--<cfmDamping>true</cfmDamping>-->
    <!--<dynamics damping="5.5" friction="1"/>-->
  </gazebo>
  <gazebo reference="wam/bhand/finger_2/dist_link">
    <mu1>0.8</mu1>
    <mu2>0.8</mu2>
    <selfCollide>true</selfCollide>
  </gazebo>
  <link name="wam/bhand/finger_2/dist_link">
    <inertial>
      <origin rpy="0 0 0" xyz="0.022825 0.0010491 0.0004203"/>
      <mass value="0.1"/>
      <inertia ixx="1e-4" ixy="0" ixz="0" iyy="1e-4" iyz="0" izz="1e-4"/>
    </inertial>
    <visual>
      <origin rpy="0 0 -0.785398163397"/>
      <material name="WAMGrey">
        <color rgba="0.9 0.9 0.9 0.0"/>
      </material>
      <geometry>
        <mesh filename="models/sw_meshes/bhand/bhand_finger_dist_link_fine.obj"/>
      </geometry>
    </visual>
    <collision>
      <origin rpy="0 0 -0.785398163397"/>
      <geometry>
        <mesh filename="models/sw_meshes/bhand/bhand_finger_dist_link_convex.dae"/>
      </geometry>
    </collision>
  </link>
  <joint name="wam/bhand/finger_2/tip_joint" type="fixed">
    <parent link="wam/bhand/finger_2/dist_link"/>
    <child link="wam/bhand/finger_2/tip_link"/>
    <origin rpy="0 0 0" xyz="0.05 0.0 0.0"/>
    <dynamics damping="0.2" friction="0"/>
  </joint>
  <link name="wam/bhand/finger_2/tip_link">
    <inertial>
      <mass value="1E-1"/>
      <inertia ixx="1e-4" ixy="0" ixz="0" iyy="1e-4" iyz="0" izz="1e-4"/>
    </inertial>
  </link>
  <joint name="wam/bhand/finger_3/med_joint" type="revolute">
    <parent link="wam/bhand/bhand_palm_link"/>
    <child link="wam/bhand/finger_3/med_link"/>
    <origin rpy="1.57079632679 0 1.57079632679" xyz="0 0.05 0.0754"/>
    <axis xyz="0 0 1"/>
    <limit effort="5" lower="0" upper="2.44346095279" velocity="5.00"/>
    <dynamics damping="0.5" friction="0"/>
  </joint>
  <gazebo reference="wam/bhand/finger_3/med_joint">
    <provideFeedback>true</provideFeedback>
    <implicitSpringDamper>true</implicitSpringDamper>
    <!--<kp>0.0</kp>[> CFM <]-->
    <!--<kd>0.0</kd>[> ERP <]-->
    <!--<cfmDamping>true</cfmDamping>-->
    <!--<dynamics damping="5.5" friction="1"/>-->
  </gazebo>
  <gazebo reference="wam/bhand/finger_3/med_link">
    <mu1>0.8</mu1>
    <mu2>0.8</mu2>
  </gazebo>
  <link name="wam/bhand/finger_3/med_link">
    <inertial>
      <origin xyz="0.023133 0.00078642 0.00052792"/>
      <mass value="1e-1"/>
      <inertia ixx="1e-4" ixy="0" ixz="0" iyy="1e-4" iyz="0" izz="1e-4"/>
    </inertial>
    <visual>
      <material name="WAMGrey">
        <color rgba="0.9 0.9 0.9 0.0"/>
      </material>
      <geometry>
        <mesh filename="models/sw_meshes/bhand/bhand_finger_med_link_fine.obj"/>
      </geometry>
    </visual>
    <collision>
      <geometry>
        <mesh filename="models/sw_meshes/bhand/bhand_finger_med_link_convex.dae"/>
      </geometry>
    </collision>
  </link>
  <joint name="wam/bhand/finger_3/dist_joint" type="revolute">
    <parent link="wam/bhand/finger_3/med_link"/>
    <child link="wam/bhand/finger_3/dist_link"/>
    <origin rpy="0 0 0.785398163397" xyz="0.06994 0.003 0.0"/>
    <axis xyz="0 0 1"/>
    <limit effort="5" lower="0" upper="0.837758040957" velocity="5.00"/>
    <dynamics damping="0.5" friction="0"/>
  </joint>
  <gazebo reference="wam/bhand/finger_3/dist_joint">
    <provideFeedback>true</provideFeedback>
    <implicitSpringDamper>true</implicitSpringDamper>
    <!--<kp>0.0</kp>[> CFM <]-->
    <!--<kd>0.0</kd>[> ERP <]-->
    <!--<cfmDamping>true</cfmDamping>-->
    <!--<dynamics damping="5.5" friction="1"/>-->
  </gazebo>
  <gazebo reference="wam/bhand/finger_3/dist_link">
    <mu1>0.8</mu1>
    <mu2>0.8</mu2>
    <selfCollide>true</selfCollide>
  </gazebo>
  <link name="wam/bhand/finger_3/dist_link">
    <inertial>
      <origin rpy="0 0 0" xyz="0.022825 0.0010491 0.0004203"/>
      <mass value="1e-1"/>
      <inertia ixx="1e-4" ixy="0" ixz="0" iyy="1e-4" iyz="0" izz="1e-4"/>
    </inertial>
    <visual>
      <origin rpy="0 0 -0.785398163397"/>
      <material name="WAMGrey">
        <color rgba="0.9 0.9 0.9 0.0"/>
      </material>
      <geometry>
        <mesh filename="models/sw_meshes/bhand/bhand_finger_dist_link_fine.obj"/>
      </geometry>
    </visual>
    <collision>
      <origin rpy="0 0 -0.785398163397"/>
      <geometry>
        <mesh filename="models/sw_meshes/bhand/bhand_finger_dist_link_convex.dae"/>
      </geometry>
    </collision>
  </link>
  <joint name="wam/bhand/finger_3/tip_joint" type="fixed">
    <parent link="wam/bhand/finger_3/dist_link"/>
    <child link="wam/bhand/finger_3/tip_link"/>
    <origin rpy="0 0 0" xyz="0.05 0.0 0.0"/>
    <dynamics damping="0.2" friction="0"/>
  </joint>
  <link name="wam/bhand/finger_3/tip_link">
    <inertial>
      <mass value="1e-1"/>
      <inertia ixx="1e-4" ixy="0" ixz="0" iyy="1e-4" iyz="0" izz="1e-4"/>
    </inertial>
  </link>
  <transmission name="wam/base_yaw_joint/trans" type="pr2_mechanism_model/SimpleTransmission">
    <actuator name="wam/base_yaw_joint/motor"/>
    <joint name="wam/base_yaw_joint"/>
    <mechanicalReduction>1</mechanicalReduction>
  </transmission>
  <transmission name="wam/shoulder_pitch_joint/trans" type="pr2_mechanism_model/SimpleTransmission">
    <actuator name="wam/shoulder_pitch_joint/motor"/>
    <joint name="wam/shoulder_pitch_joint"/>
    <mechanicalReduction>1</mechanicalReduction>
  </transmission>
  <transmission name="wam/shoulder_yaw_joint/trans" type="pr2_mechanism_model/SimpleTransmission">
    <actuator name="wam/shoulder_yaw_joint/motor"/>
    <joint name="wam/shoulder_yaw_joint"/>
    <mechanicalReduction>1</mechanicalReduction>
  </transmission>
  <transmission name="wam/elbow_pitch_joint/trans" type="pr2_mechanism_model/SimpleTransmission">
    <actuator name="wam/elbow_pitch_joint/motor"/>
    <joint name="wam/elbow_pitch_joint"/>
    <mechanicalReduction>1</mechanicalReduction>
  </transmission>
  <transmission name="wam/wrist_yaw_joint/trans" type="pr2_mechanism_model/SimpleTransmission">
    <actuator name="wam/wrist_yaw_joint/motor"/>
    <joint name="wam/wrist_yaw_joint"/>
    <mechanicalReduction>1</mechanicalReduction>
  </transmission>
  <transmission name="wam/wrist_pitch_joint/trans" type="pr2_mechanism_model/SimpleTransmission">
    <actuator name="wam/wrist_pitch_joint/motor"/>
    <joint name="wam/wrist_pitch_joint"/>
    <mechanicalReduction>1</mechanicalReduction>
  </transmission>
  <transmission name="wam/palm_yaw_joint/trans" type="pr2_mechanism_model/SimpleTransmission">
    <actuator name="wam/palm_yaw_joint/motor"/>
    <joint name="wam/palm_yaw_joint"/>
    <mechanicalReduction>1</mechanicalReduction>
  </transmission>
  <transmission name="wam/bhand/finger_1/prox_joint/trans" type="pr2_mechanism_model/SimpleTransmission">
    <actuator name="wam/bhand/finger_1/prox_joint/motor"/>
    <joint name="wam/bhand/finger_1/prox_joint"/>
    <mechanicalReduction>1</mechanicalReduction>
  </transmission>
  <transmission name="wam/bhand/finger_1/med_joint/trans" type="pr2_mechanism_model/SimpleTransmission">
    <actuator name="wam/bhand/finger_1/med_joint/motor"/>
    <joint name="wam/bhand/finger_1/med_joint"/>
    <mechanicalReduction>1</mechanicalReduction>
  </transmission>
  <transmission name="wam/bhand/finger_1/dist_joint/trans" type="pr2_mechanism_model/SimpleTransmission">
    <actuator name="wam/bhand/finger_1/dist_joint/motor"/>
    <joint name="wam/bhand/finger_1/dist_joint"/>
    <mechanicalReduction>1</mechanicalReduction>
  </transmission>
  <transmission name="wam/bhand/finger_2/prox_joint/trans" type="pr2_mechanism_model/SimpleTransmission">
    <actuator name="wam/bhand/finger_2/prox_joint/motor"/>
    <joint name="wam/bhand/finger_2/prox_joint"/>
    <mechanicalReduction>1</mechanicalReduction>
  </transmission>
  <transmission name="wam/bhand/finger_2/med_joint/trans" type="pr2_mechanism_model/SimpleTransmission">
    <actuator name="wam/bhand/finger_2/med_joint/motor"/>
    <joint name="wam/bhand/finger_2/med_joint"/>
    <mechanicalReduction>1</mechanicalReduction>
  </transmission>
  <transmission name="wam/bhand/finger_2/dist_joint/trans" type="pr2_mechanism_model/SimpleTransmission">
    <actuator name="wam/bhand/finger_2/dist_joint/motor"/>
    <joint name="wam/bhand/finger_2/dist_joint"/>
    <mechanicalReduction>1</mechanicalReduction>
  </transmission>
  <transmission name="wam/bhand/finger_3/med_joint/trans" type="pr2_mechanism_model/SimpleTransmission">
    <actuator name="wam/bhand/finger_3/med_joint/motor"/>
    <joint name="wam/bhand/finger_3/med_joint"/>
    <mechanicalReduction>1</mechanicalReduction>
  </transmission>
  <transmission name="wam/bhand/finger_3/dist_joint/trans" type="pr2_mechanism_model/SimpleTransmission">
    <actuator name="wam/bhand/finger_3/dist_joint/motor"/>
    <joint name="wam/bhand/finger_3/dist_joint"/>
    <mechanicalReduction>1</mechanicalReduction>
  </transmission>

</robot>
